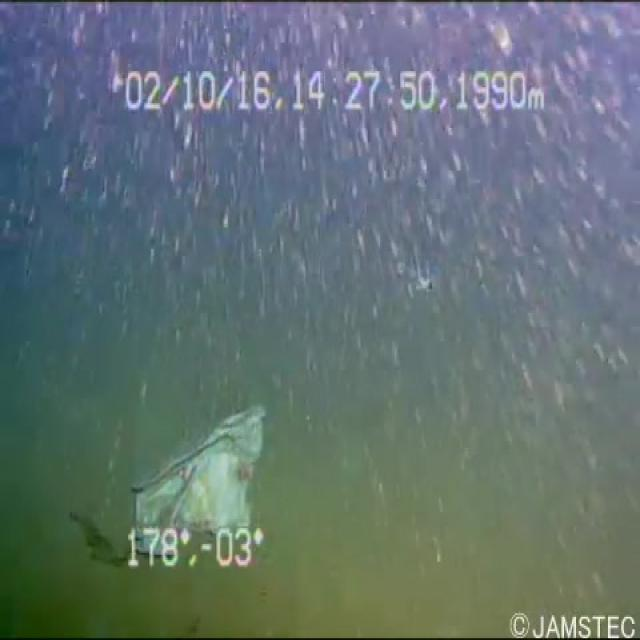plastic: (113, 386, 268, 564), (379, 233, 444, 311)
